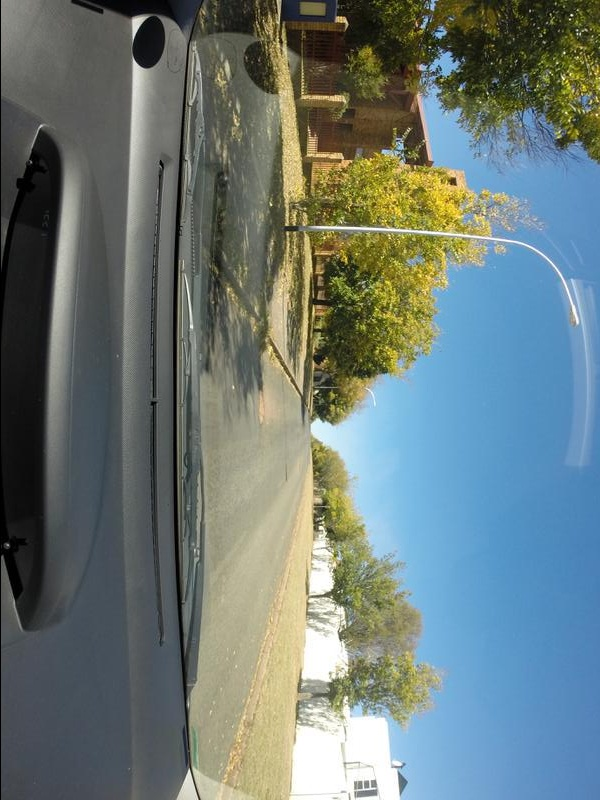pothole: (251, 382, 271, 431)
